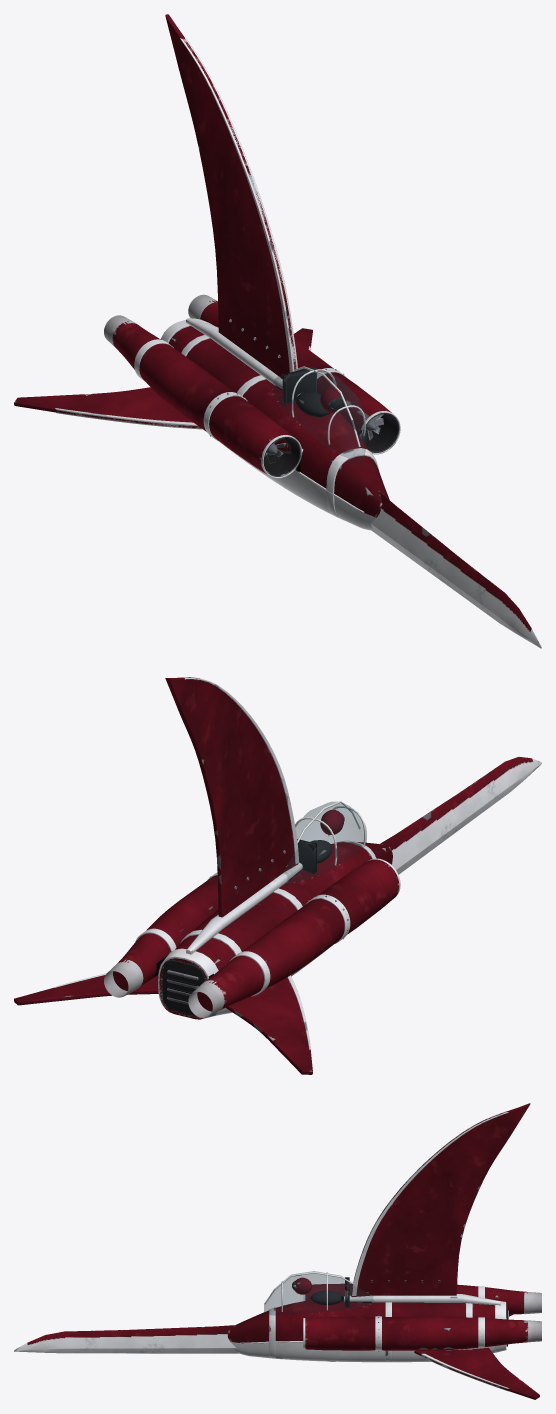
File: sabre.glb
The picture shows the model from 3 angles, top to bottom: view 1: azimuth 30°, elevation 25°; view 2: azimuth 150°, elevation 25°; view 3: azimuth 270°, elevation 25°; orthographic projection. The views are drawn at different scales.
Parts seen in each view (by area): view 1: sabre_body, canopy; view 2: sabre_body, canopy; view 3: sabre_body, canopy.
Boxes of the visible parts, x1=… form: sabre_body: x1=14, y1=14, x2=541, y2=648; canopy: x1=273, y1=367, x2=366, y2=462; sabre_body: x1=14, y1=677, x2=541, y2=1074; canopy: x1=283, y1=802, x2=366, y2=883; sabre_body: x1=14, y1=1103, x2=541, y2=1399; canopy: x1=264, y1=1271, x2=375, y2=1315.
Bounding box in the file's own units: 2.13 × 2.47 × 4.72.
5 materials, 2 textured.
